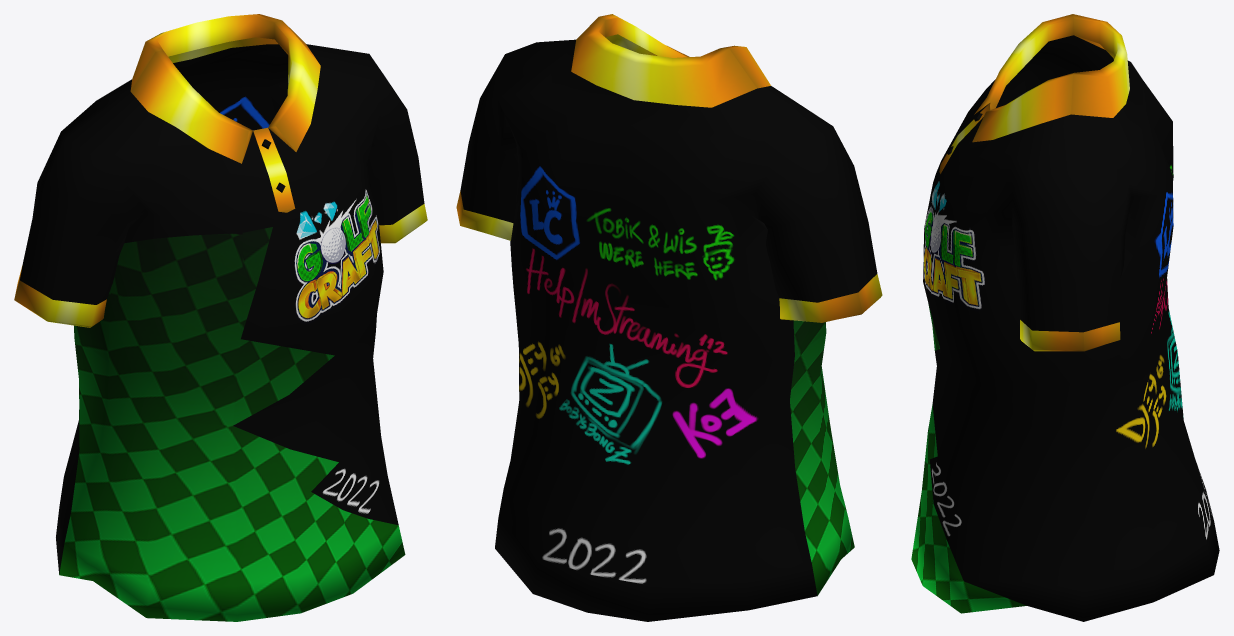
The model's file is golfcraft-2022.glb.
3 views of the same model, side by side, from view 1: azimuth 30°, elevation 25°; view 2: azimuth 150°, elevation 25°; view 3: azimuth 270°, elevation 25° (orthographic). The views are drawn at different scales.
Visible parts, largest first — view 1: M_tshirt_golfcraft; view 2: M_tshirt_golfcraft; view 3: M_tshirt_golfcraft.
Part boxes in pixels (bbox=[...]): M_tshirt_golfcraft: bbox=[14, 14, 427, 621]; M_tshirt_golfcraft: bbox=[456, 14, 882, 621]; M_tshirt_golfcraft: bbox=[911, 14, 1219, 621].
Size of the model in its own units: 1.05 by 1.31 by 0.7131.
Materials: 1 (1 with a texture image).
